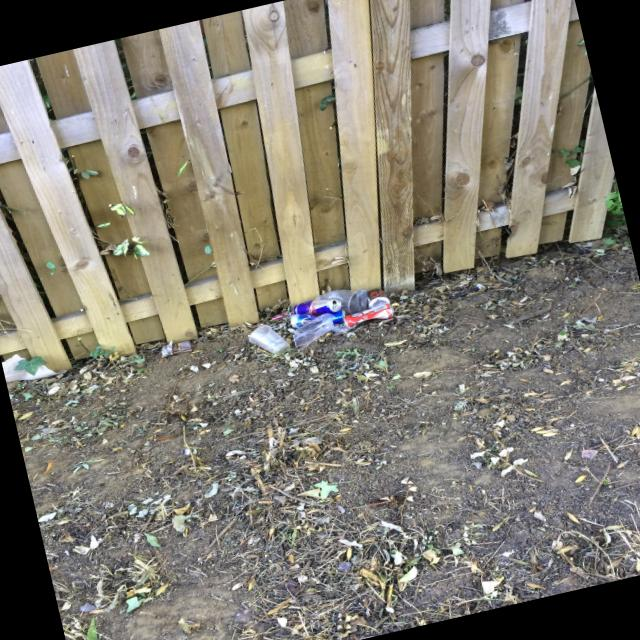less trash: (291, 288, 394, 349), (248, 324, 291, 354)
